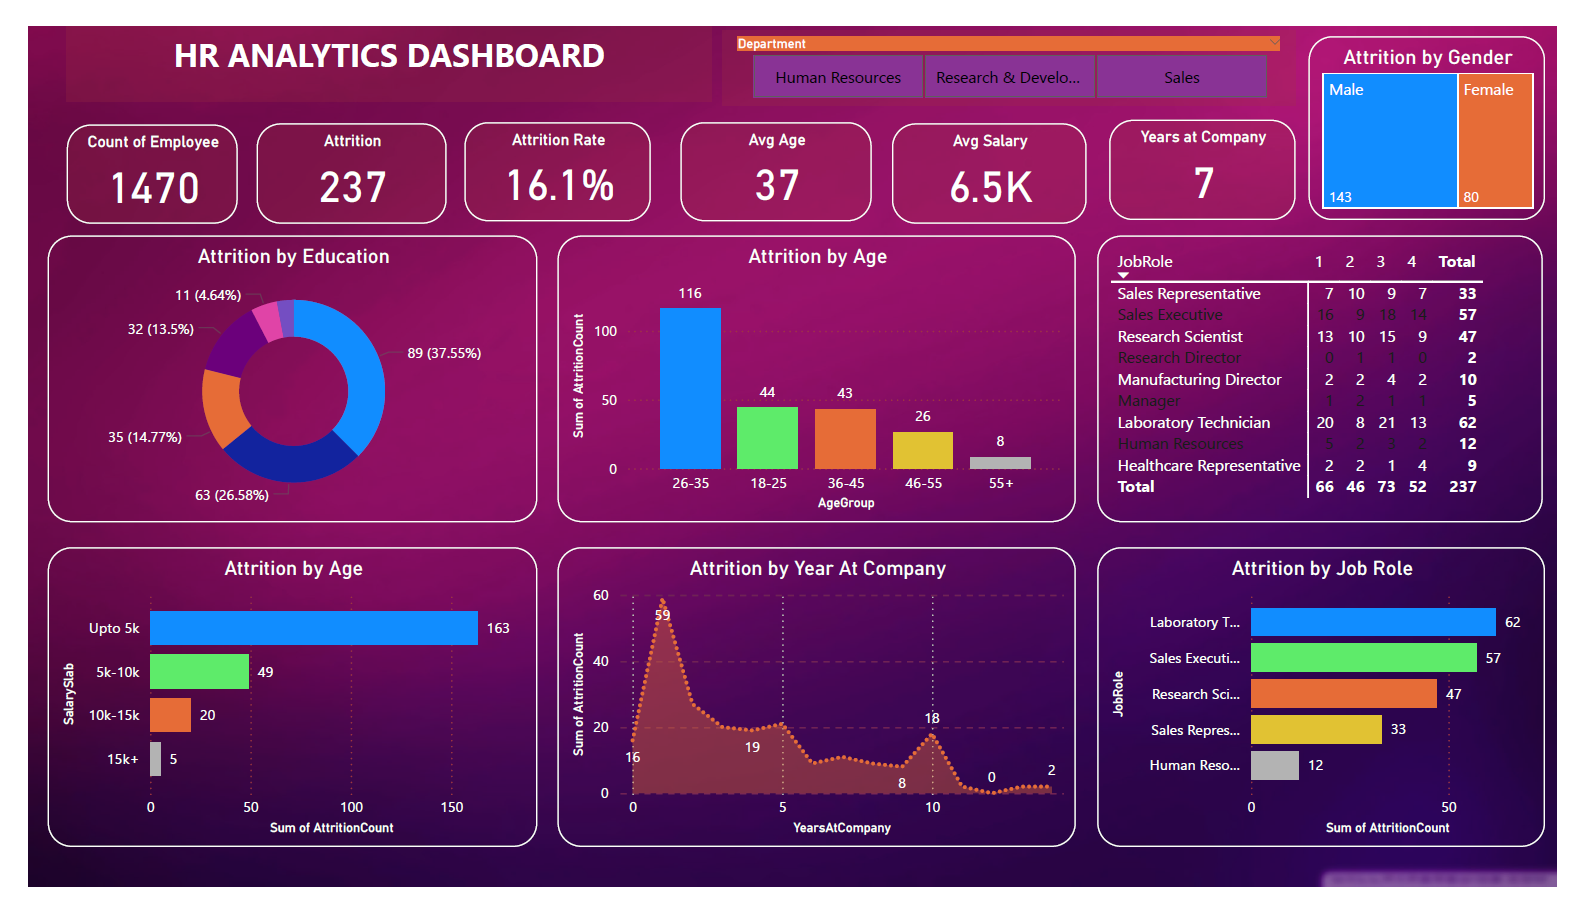

Layout of this report page (visuals, bound fields, positions):
{"tool":"powerbi","page":{"name":"Page 1","canvas":[1280,720],"ordinal":0},"visuals":[{"type":"card","title":"Count of Employee","fields":{"Values":["Count(HR_Analytics.EmpID)"]},"box":[31.5,82.3,144,82.3],"z":0},{"type":"card","title":"Attrition","fields":{"Values":["Sum(HR_Analytics.AttritionCount)"]},"box":[190.6,80.9,159,83.6],"z":1000},{"type":"card","title":"Avg Age","fields":{"Values":["Avg(HR_Analytics.Age)"]},"box":[545.7,79.5,160.4,83.6],"z":2000},{"type":"card","title":"Attrition Rate","fields":{"Values":["HR_Analytics.Attritionrate"]},"box":[364.7,79.5,156.3,83.6],"z":3000},{"type":"card","title":"Avg Salary","fields":{"Values":["Avg(HR_Analytics.MonthlyIncome)"]},"box":[722.5,80.9,163.2,83.6],"z":4000},{"type":"card","title":"Years at Company","fields":{"Values":["Avg(HR_Analytics.YearsAtCompany)"]},"box":[904.9,78.1,156.3,83.6],"z":5000},{"type":"donutChart","title":"Attrition by Education","fields":{"Y":["Sum(HR_Analytics.AttritionCount)"],"Category":["HR_Analytics.EducationField"]},"box":[16.5,175.5,409.9,239.9],"z":6000},{"type":"clusteredColumnChart","title":"Attrition by Age","fields":{"Category":["HR_Analytics.AgeGroup"],"Y":["Sum(HR_Analytics.AttritionCount)"]},"box":[442.8,175.5,434.6,239.9],"z":7000},{"type":"clusteredBarChart","title":"Attrition by Age","fields":{"Category":["HR_Analytics.SalarySlab"],"Y":["Sum(HR_Analytics.AttritionCount)"]},"box":[16.5,436,409.9,250.9],"z":8000},{"type":"areaChart","title":"Attrition by Year At Company","fields":{"Category":["HR_Analytics.YearsAtCompany"],"Y":["Sum(HR_Analytics.AttritionCount)"]},"box":[442.8,436,434.6,250.9],"z":9000},{"type":"clusteredBarChart","title":"Attrition by Job Role","fields":{"Y":["Sum(HR_Analytics.AttritionCount)"],"Category":["HR_Analytics.JobRole"]},"box":[895.3,436,374.3,250.9],"z":10000},{"type":"pivotTable","fields":{"Rows":["HR_Analytics.JobRole"],"Columns":["HR_Analytics.JobSatisfaction"],"Values":["Sum(HR_Analytics.AttritionCount)"]},"box":[895.3,175.5,372.9,239.9],"z":11000},{"type":"treemap","title":"Attrition by Gender","fields":{"Group":["HR_Analytics.Gender"],"Values":["Sum(HR_Analytics.AttritionCount)"]},"box":[1072.2,8.2,197.4,153.6],"z":12000},{"type":"textbox","box":[31.5,0,540.2,63.1],"z":13000},{"type":"slicer","fields":{"Values":["HR_Analytics.Department"]},"box":[581.3,2.7,479.9,63.1],"z":14000}]}

Visuals, with their boxes in screenshot pixels (x1, y1, x2, y2), scaled from the page's 1280x720 canvas onto the 1579x909 screenshot:
"Count of Employee" card: BBox(39, 104, 216, 208)
"Attrition" card: BBox(235, 102, 431, 208)
"Avg Age" card: BBox(673, 100, 871, 206)
"Attrition Rate" card: BBox(450, 100, 643, 206)
"Avg Salary" card: BBox(891, 102, 1093, 208)
"Years at Company" card: BBox(1116, 99, 1309, 204)
"Attrition by Education" donutChart: BBox(20, 222, 526, 524)
"Attrition by Age" clusteredColumnChart: BBox(546, 222, 1082, 524)
"Attrition by Age" clusteredBarChart: BBox(20, 550, 526, 867)
"Attrition by Year At Company" areaChart: BBox(546, 550, 1082, 867)
"Attrition by Job Role" clusteredBarChart: BBox(1104, 550, 1566, 867)
pivotTable - HR_Analytics.JobRole x HR_Analytics.JobSatisfaction: BBox(1104, 222, 1564, 524)
"Attrition by Gender" treemap: BBox(1323, 10, 1566, 204)
textbox: BBox(39, 0, 705, 80)
slicer - HR_Analytics.Department: BBox(717, 3, 1309, 83)
